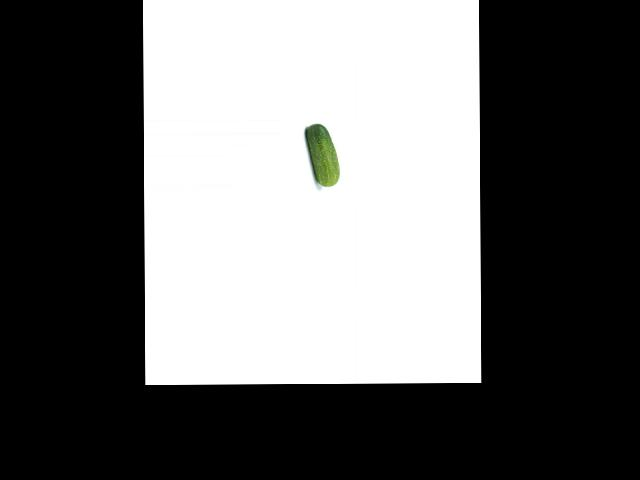cucumber: (305, 123, 339, 186)
